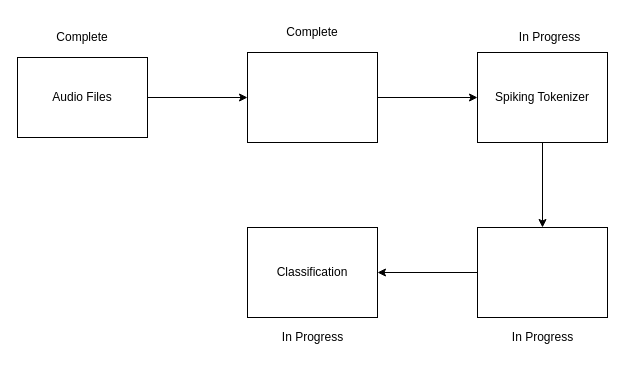
The diagram is 625 pixels wide and 369 high, and some of its shapes have lost their labels. Each missing label, with the centre of its shape:
"Mel Spectrogram Converter" belongs at (x=312, y=97).
"Spiking Neural Network/ Transformer" belongs at (x=542, y=272).
